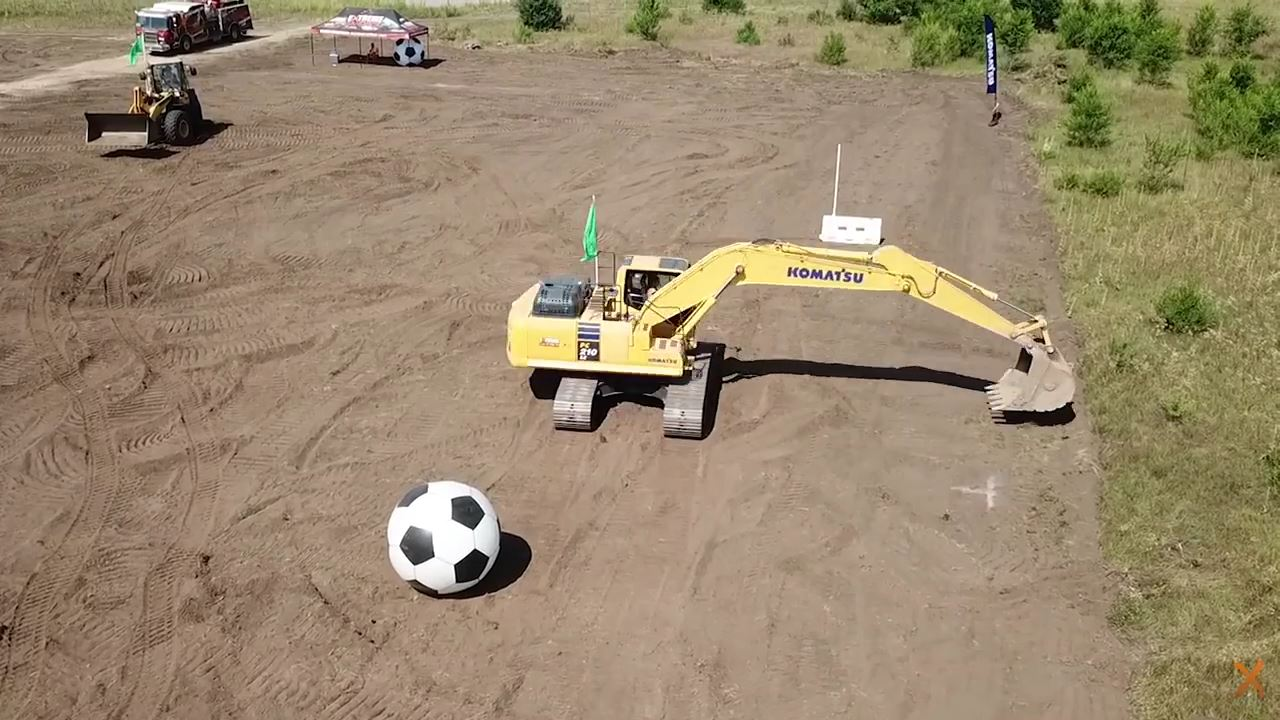con_eq: (499, 230, 1081, 464), (80, 56, 206, 162), (127, 6, 253, 56)
